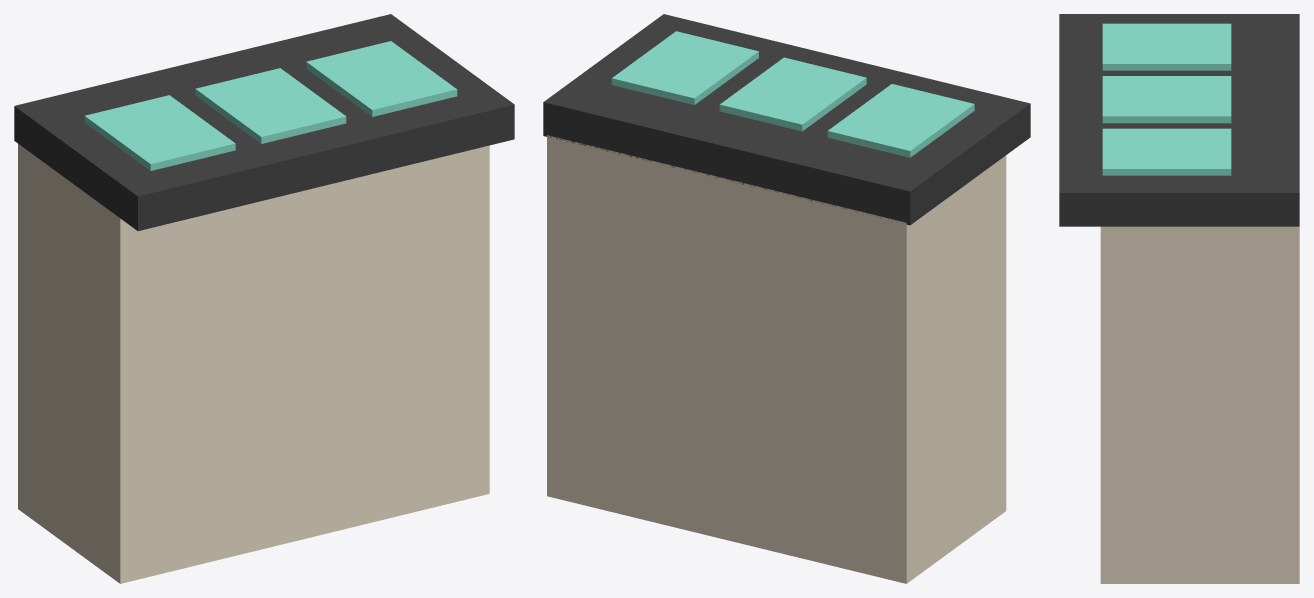
The picture shows the model from 3 angles, left to right: view 1: azimuth 30°, elevation 25°; view 2: azimuth 150°, elevation 25°; view 3: azimuth 270°, elevation 25°; orthographic projection. The views are drawn at different scales.
Parts seen in each view (by area): view 1: Console, Panel, Readout, Readout.001, Readout.002; view 2: Console, Panel, Readout, Readout.001, Readout.002; view 3: Console, Panel, Readout, Readout.001, Readout.002.
Part boxes in pixels (<box>): Console: <box>18,144,489,583</box>; Panel: <box>14,14,514,230</box>; Readout: <box>84,95,235,170</box>; Readout.001: <box>195,68,346,143</box>; Readout.002: <box>306,41,457,116</box>; Console: <box>547,135,1006,583</box>; Panel: <box>543,14,1030,225</box>; Readout: <box>827,84,974,157</box>; Readout.001: <box>719,57,866,131</box>; Readout.002: <box>611,31,758,104</box>; Console: <box>1100,226,1299,583</box>; Panel: <box>1059,14,1299,226</box>; Readout: <box>1102,23,1231,70</box>; Readout.001: <box>1102,76,1231,123</box>; Readout.002: <box>1102,128,1231,175</box>.
Size of the model in its own units: 1.02 by 1.06 by 0.58.
Materials: 1 (1 with a texture image).
